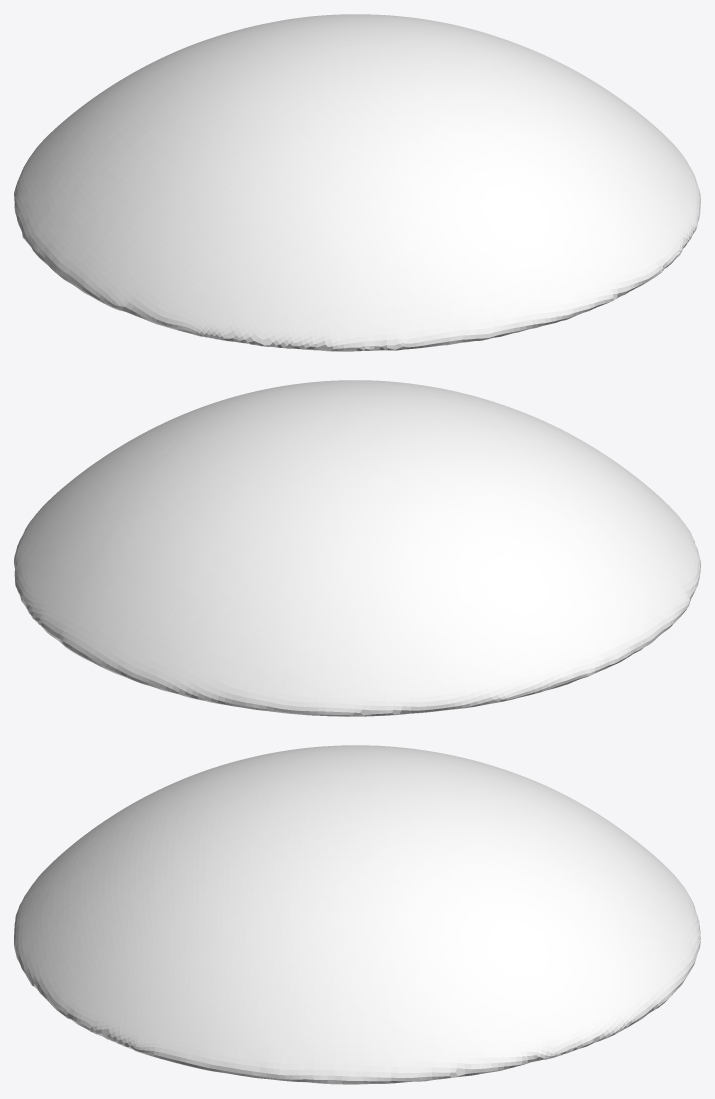
3 views of the same model, one above another, from view 1: azimuth 30°, elevation 25°; view 2: azimuth 150°, elevation 25°; view 3: azimuth 270°, elevation 25° (orthographic).
Visible parts, largest first — view 1: HEAD_TOP; view 2: HEAD_TOP; view 3: HEAD_TOP.
Boxes of the visible parts, x1,y1,x2,y2 form: HEAD_TOP: (14,14,700,351); HEAD_TOP: (14,380,700,716); HEAD_TOP: (14,745,700,1084).
Bounding box in the file's own units: 51.33 × 12.54 × 51.08.
Materials: 1 (1 with a texture image).
